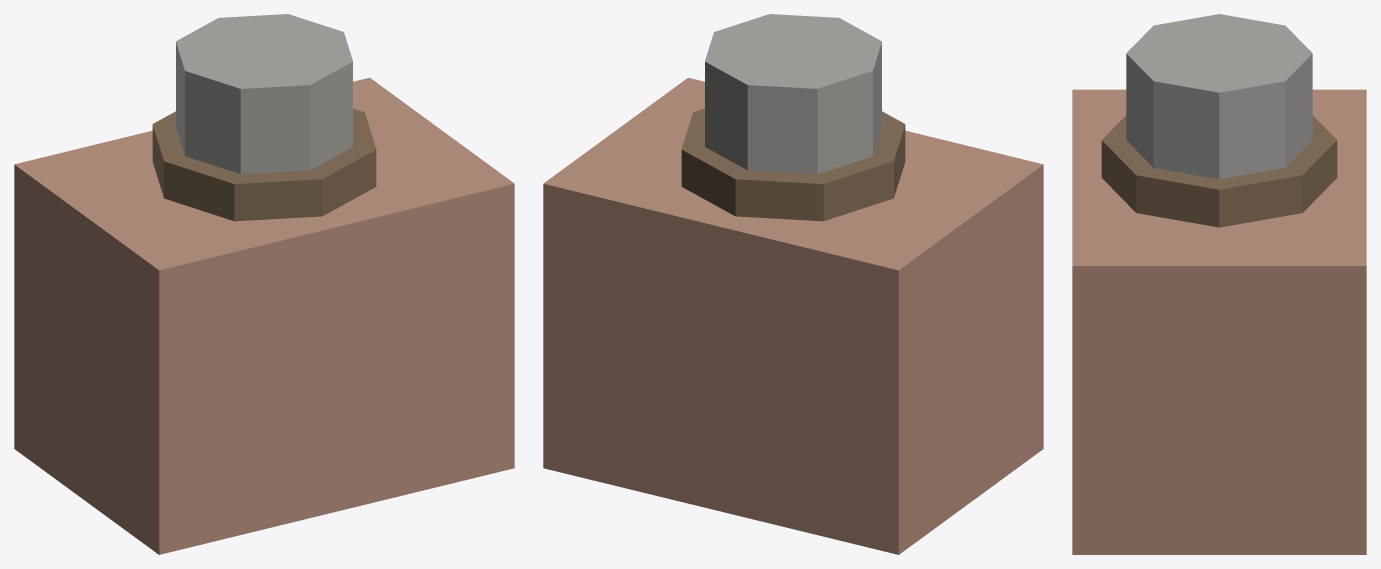
Rendered from kitchen_stove.glb.
3 views of the same model, side by side, from view 1: azimuth 30°, elevation 25°; view 2: azimuth 150°, elevation 25°; view 3: azimuth 270°, elevation 25° (orthographic).
Parts seen in each view (by area): view 1: part_0, part_2, part_1; view 2: part_0, part_2, part_1; view 3: part_0, part_2, part_1.
Part boxes in pixels (x1=…): part_0: x1=14, y1=77, x2=514, y2=554; part_2: x1=176, y1=14, x2=352, y2=174; part_1: x1=152, y1=108, x2=376, y2=221; part_0: x1=543, y1=77, x2=1043, y2=554; part_2: x1=705, y1=14, x2=881, y2=174; part_1: x1=681, y1=108, x2=905, y2=221; part_0: x1=1072, y1=89, x2=1366, y2=554; part_2: x1=1126, y1=14, x2=1312, y2=179; part_1: x1=1101, y1=115, x2=1337, y2=227.
Bounding box in the file's own units: 0.85 × 0.93 × 0.6.
